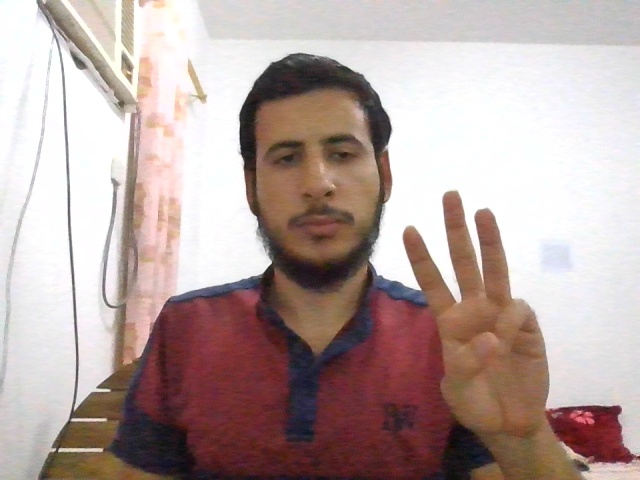Three: (402, 190, 552, 433)
